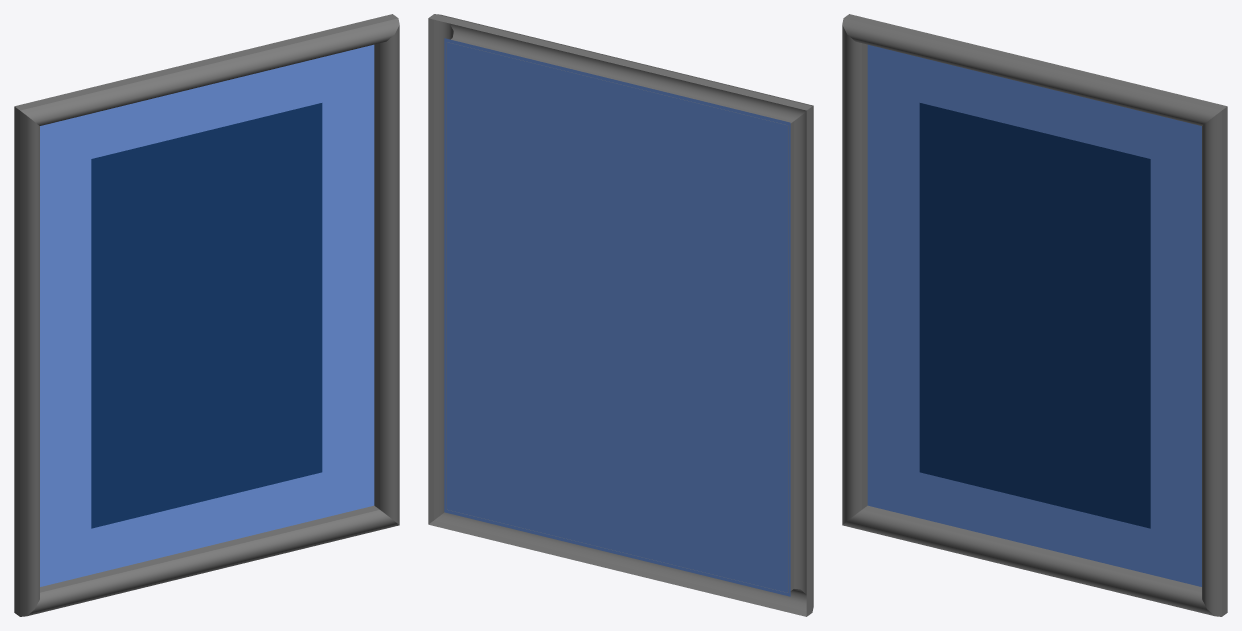
File: painting3.FBX
3 renders of one model, left to right at view 1: azimuth 30°, elevation 25°; view 2: azimuth 150°, elevation 25°; view 3: azimuth 330°, elevation 25°, orthographic.
Parts seen in each view (by area): view 1: painting3; view 2: painting3; view 3: painting3.
Boxes of the visible parts, bbox=[...] form: painting3: bbox=[14, 14, 399, 616]; painting3: bbox=[428, 14, 813, 616]; painting3: bbox=[842, 14, 1227, 616].
Size of the model in its own units: 187 by 240 by 9.79.
